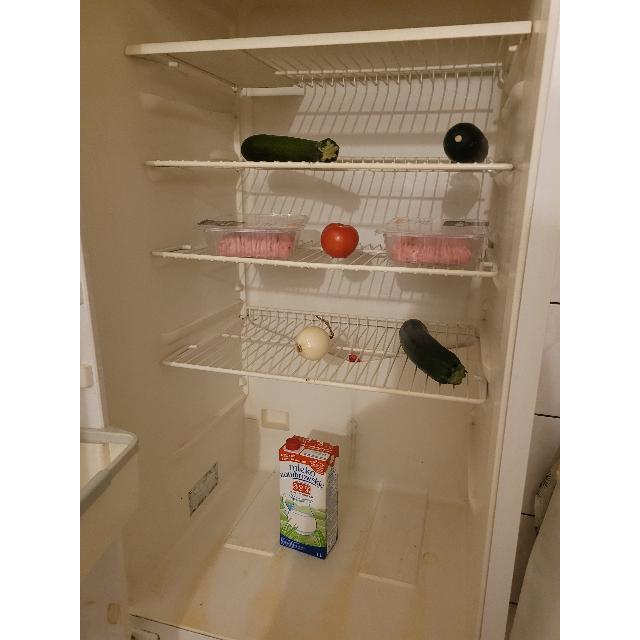meat: (392, 236, 470, 264), (218, 232, 296, 260)
milk: (280, 442, 336, 558)
onion: (294, 326, 332, 360)
tomato: (320, 223, 360, 259)
zucchini: (400, 319, 466, 385), (242, 134, 336, 162), (443, 121, 489, 163)
